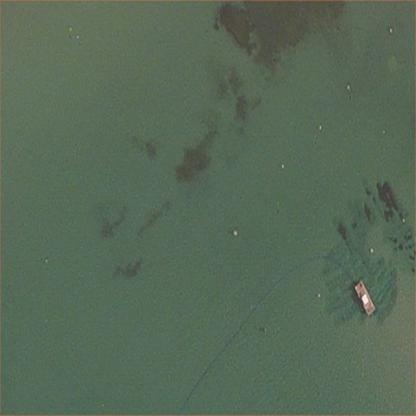ship: (352, 277, 375, 317)
